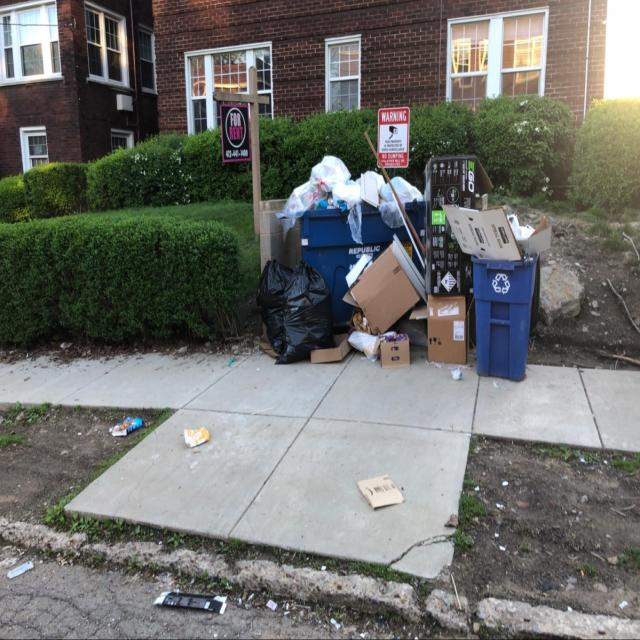House: (3, 3, 609, 186)
